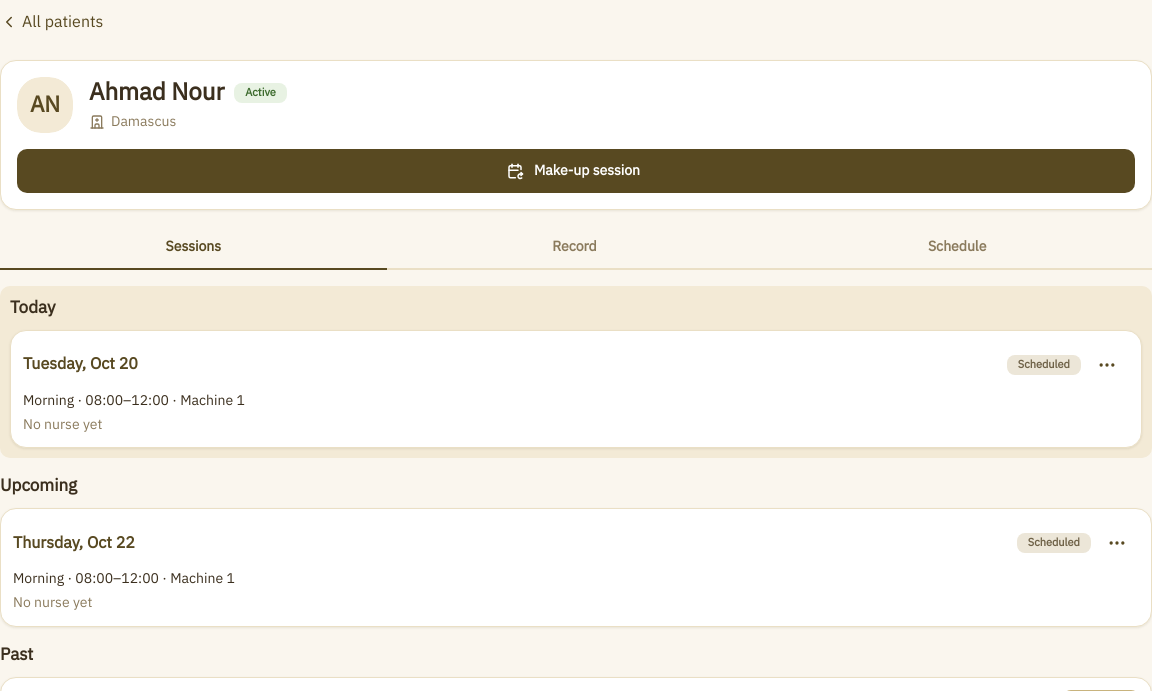
Scenario: PatientPage session actions › postpones a session from its row, then offers the make-up
Click the button named "Actions for " at coordinates (1117, 543), box 1095,521 -> 1139,565
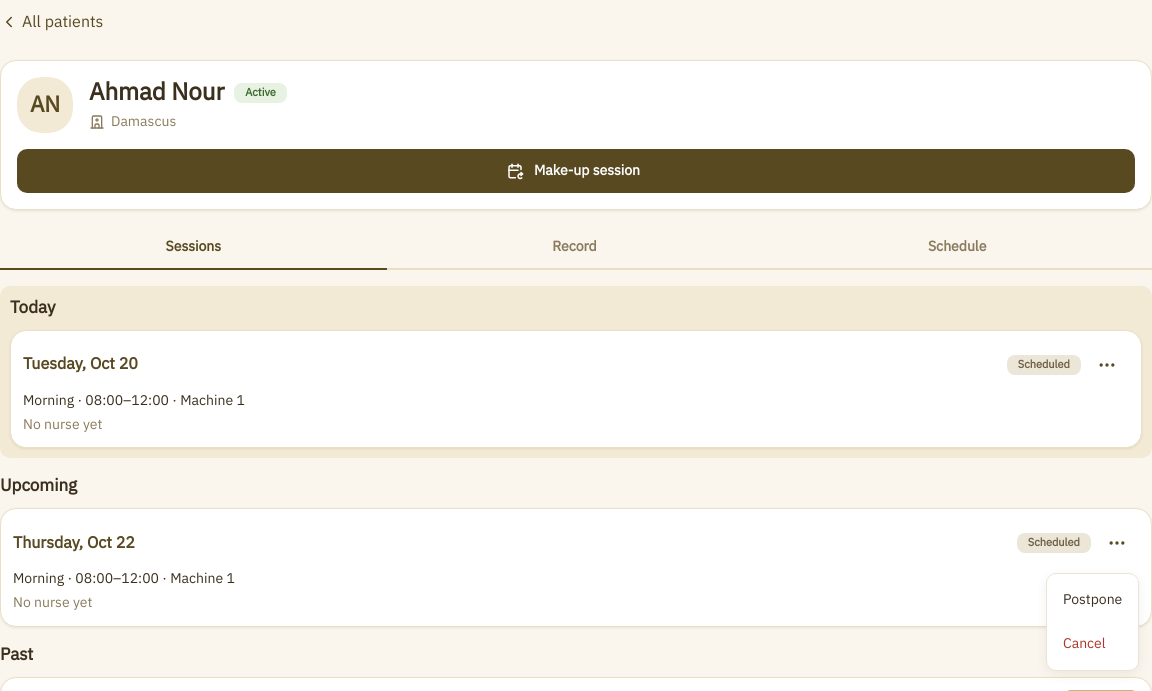
Click the menu item "Postpone" at coordinates (1092, 600), box 1051,578 -> 1134,622
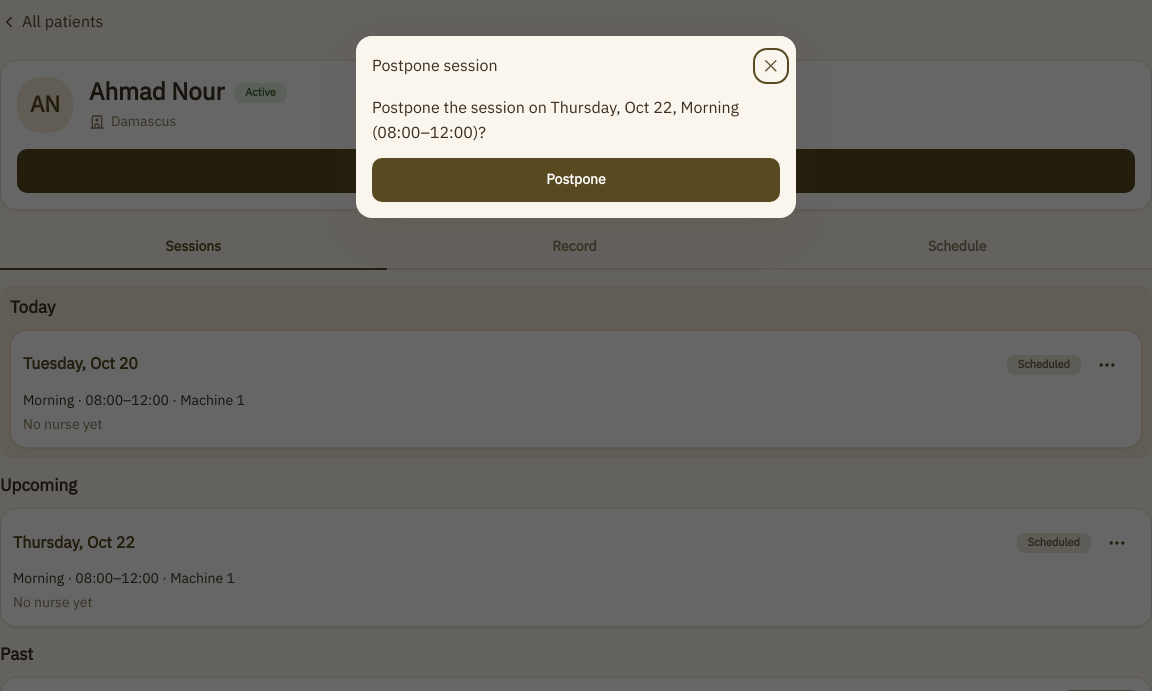
Click the button "Postpone" at coordinates (576, 180), box 372,158 -> 780,202
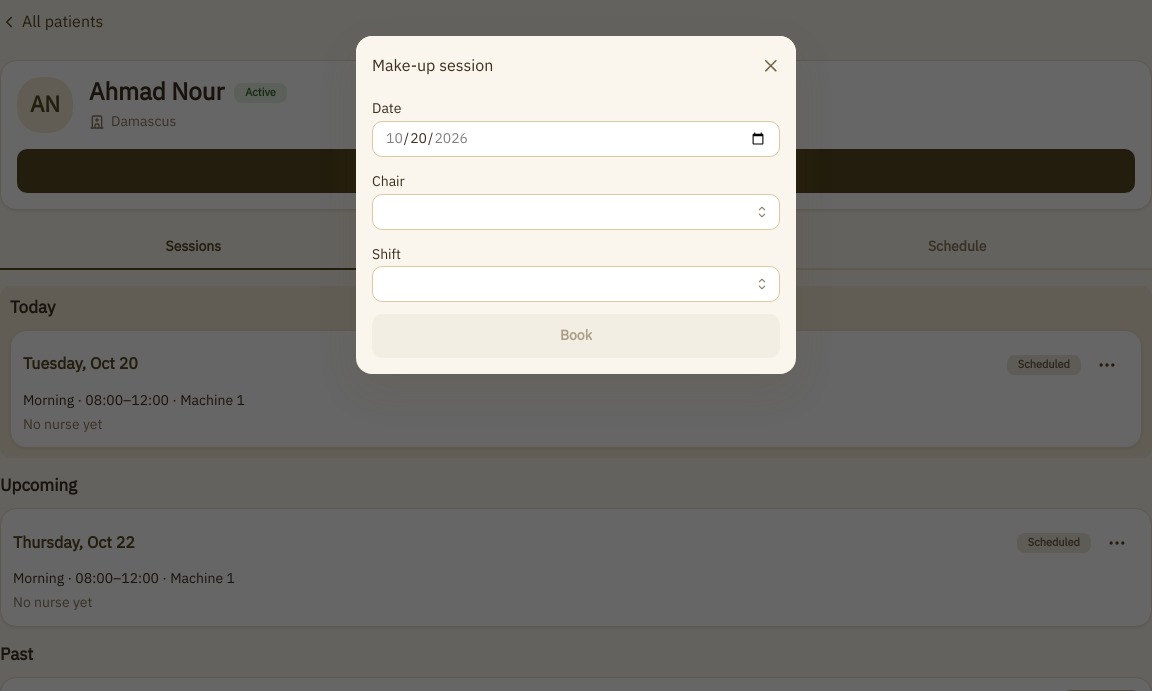
Expected: the dialog "Make-up session" is shown, 356,36 -> 796,374
